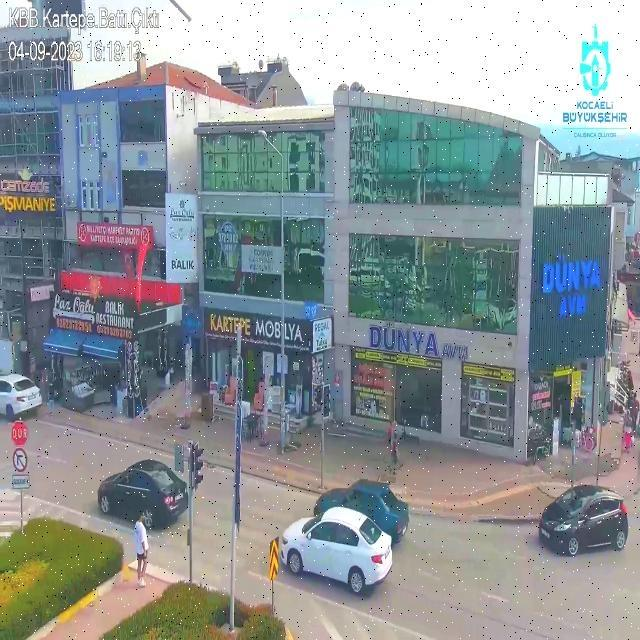Car: (279, 506, 393, 596), (536, 484, 628, 556), (98, 459, 191, 529), (313, 479, 409, 543), (1, 373, 42, 420)
